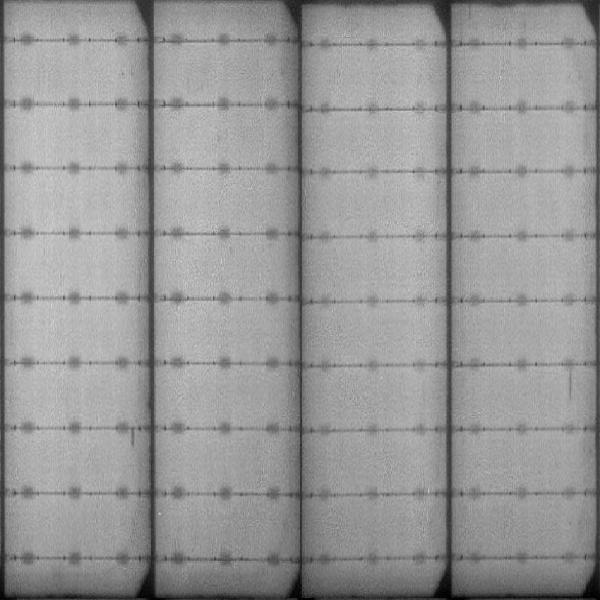scratch: (567, 367, 576, 400), (128, 427, 138, 452)
